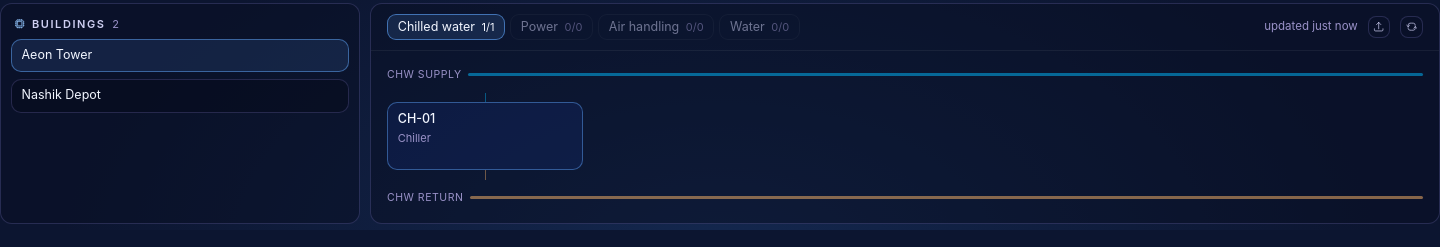
picking a building › opens the first building, and another one when it is picked
The width and height of the screenshot is (1440, 247).
Expected: the button "CH-01 Chiller" is shown, [387,102,583,170]
Click the button "Nashik Depot" at (61, 95), box [11,79,349,113]
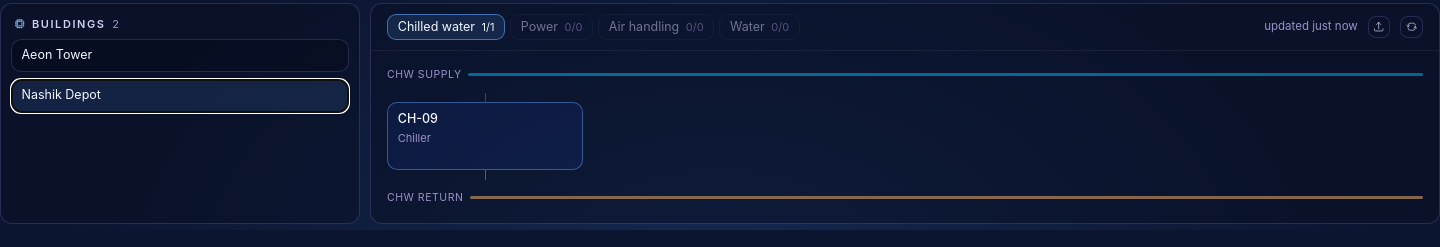
Expected: the button "CH-09 Chiller" is shown, [387,102,583,170]
Expected: the button "CH-01" is gone
